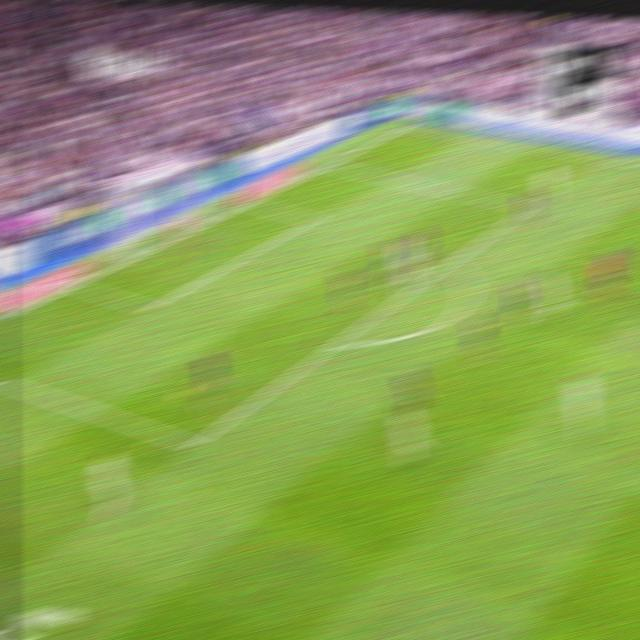bigarea_bottom_inner: (183, 433, 204, 457)
bigarea_top_inner: (518, 202, 533, 214)
bigarea_top_outter: (322, 159, 338, 168)
bottom_arc_area_intersection: (325, 335, 346, 352)
corner: (404, 122, 419, 127)
smallarea_top_inner: (307, 215, 321, 225)
top_arc_area_intersection: (441, 253, 460, 270)
